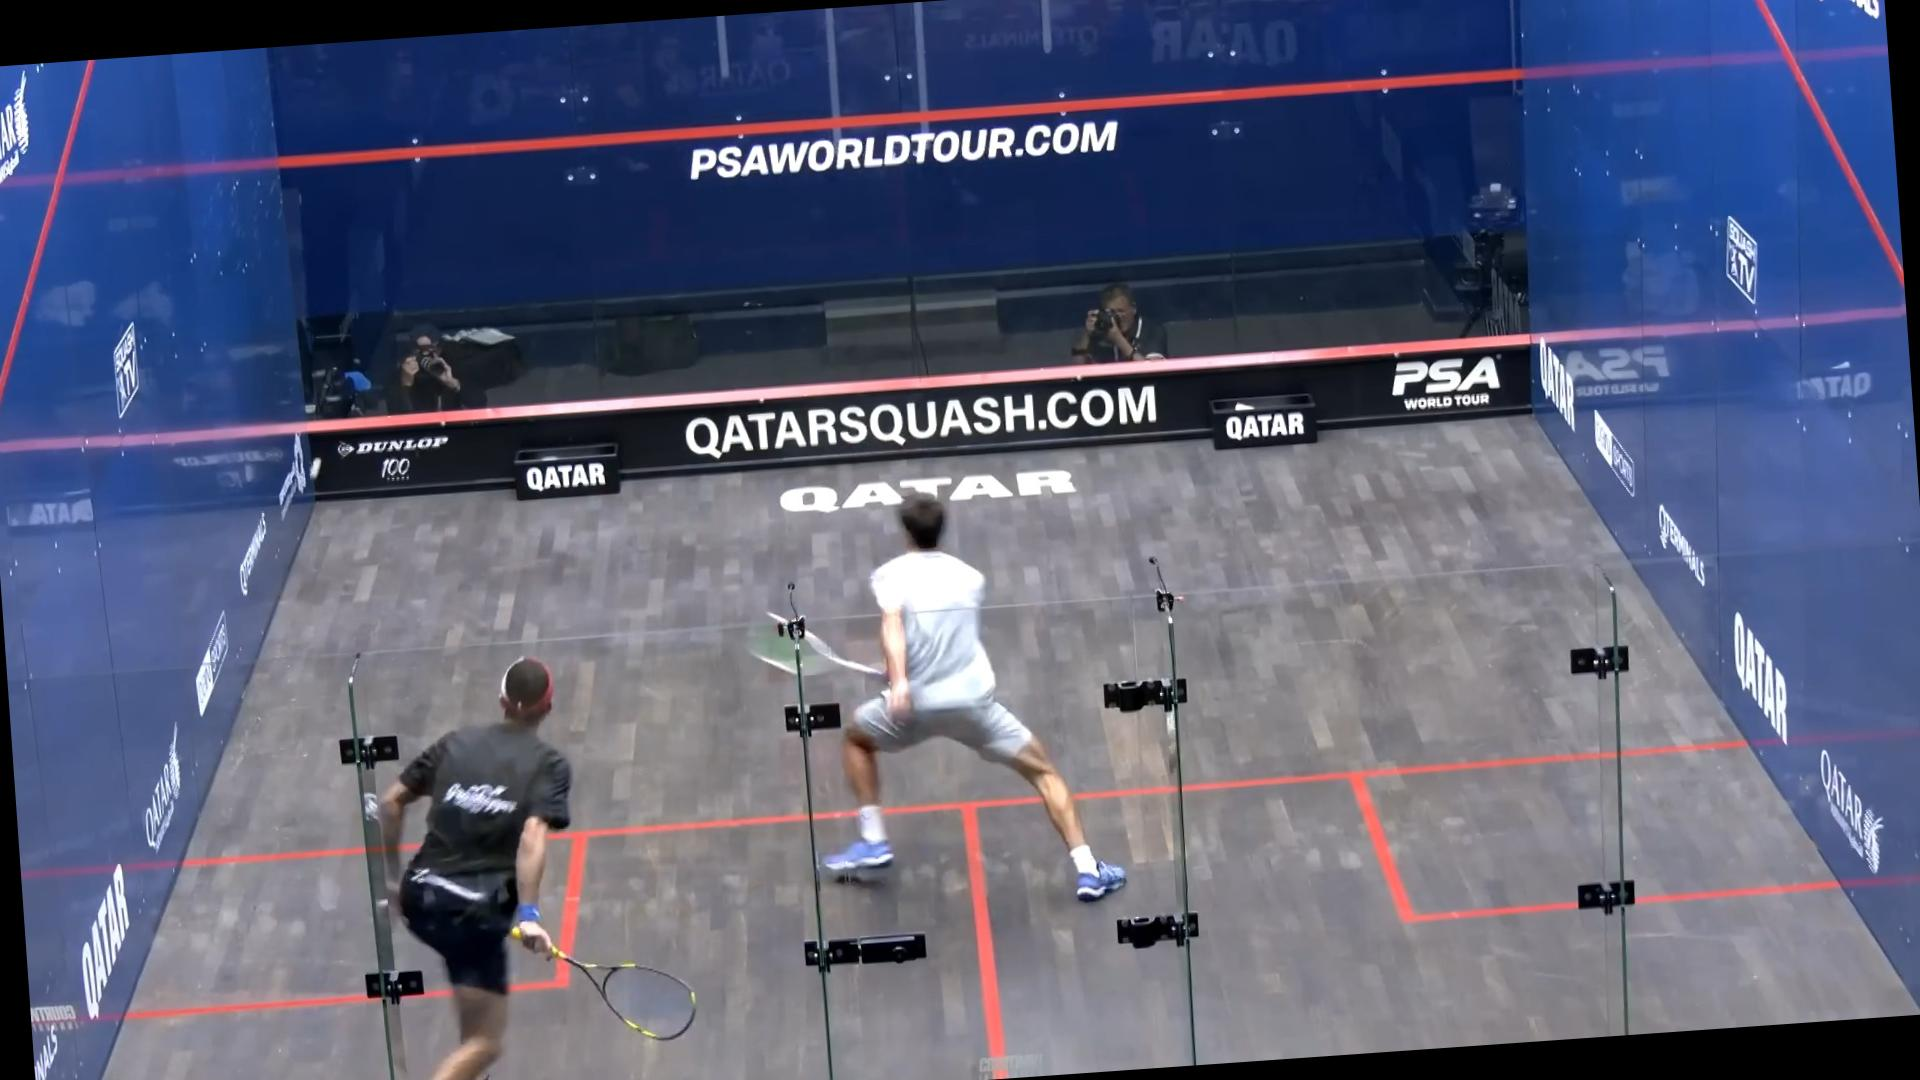Racket: (551, 924, 711, 1059), (736, 593, 884, 692)
